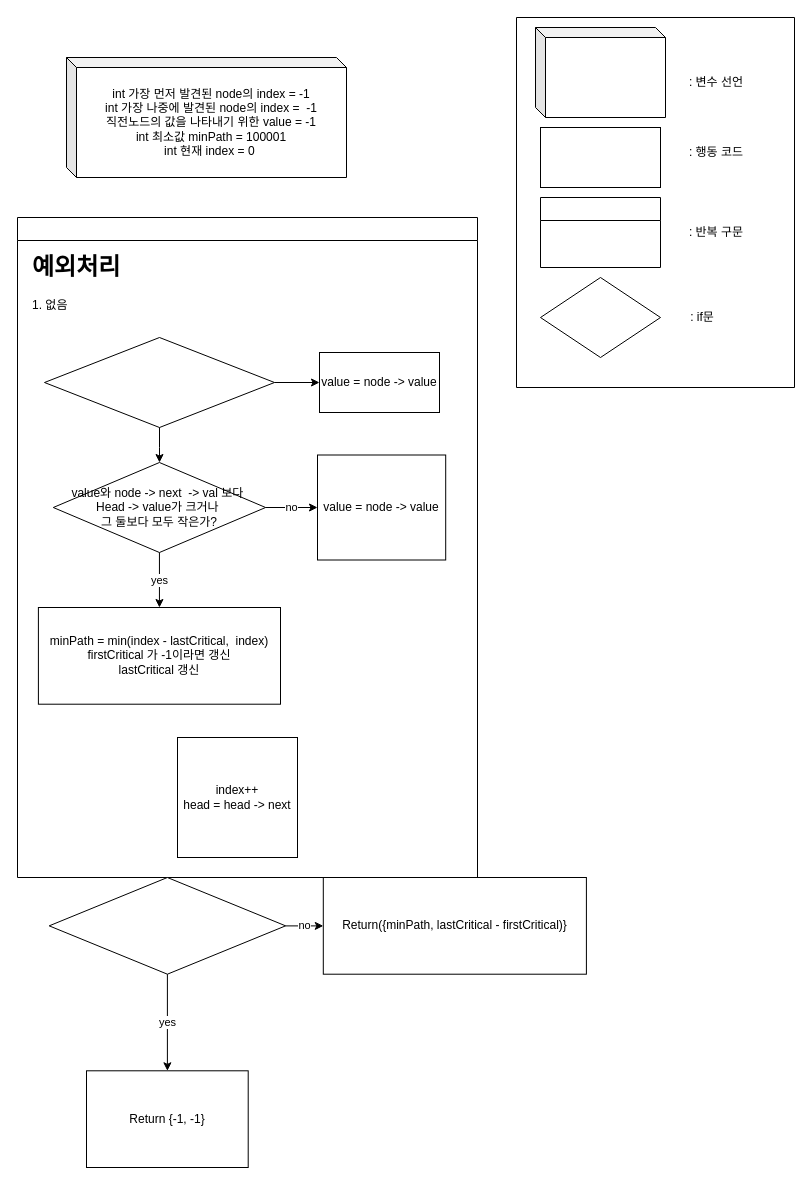
Some shapes in this 812 by 1185 pixel diagram are drawn without their labels. Here are the shapes that lost their labels. From the top down, the box of each, then its label:
(540, 196, 660, 268): ~ 동안
(44, 336, 274, 428): value가 -1 이 아니고 head -> next 일경우
(16, 216, 478, 878): head가 nullptr이 아닌동안 반복
(48, 876, 286, 974): firstCritical 이 -1이거나 firstCritical이 lastCritical과 같은가?
